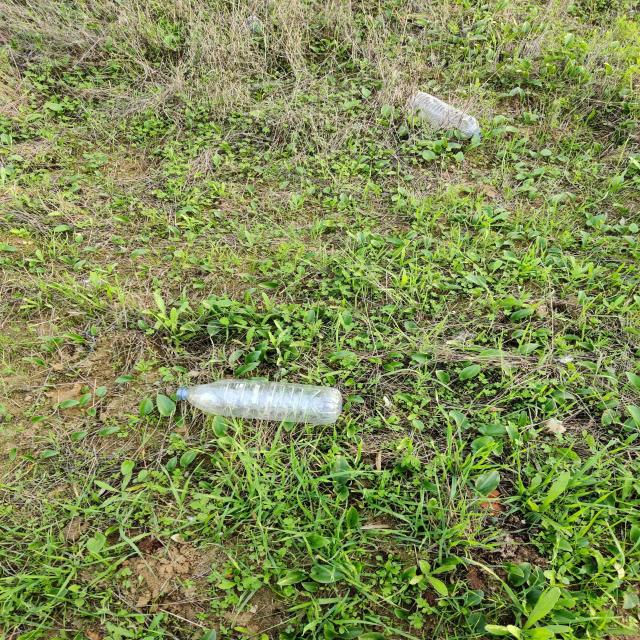litter: (177, 380, 342, 424), (403, 90, 482, 138), (246, 16, 265, 32)
